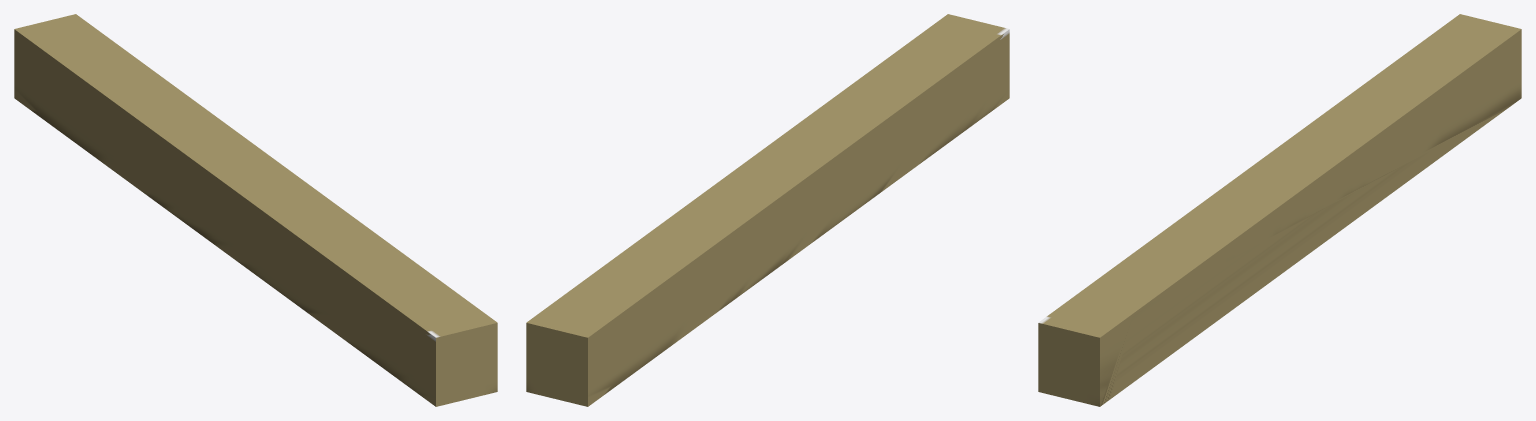
The model's file is crate fragments4.fbx.
3 views of the same model, side by side, from view 1: azimuth 30°, elevation 25°; view 2: azimuth 150°, elevation 25°; view 3: azimuth 330°, elevation 25° (orthographic).
Visible parts, largest first — view 1: CrateFragment 4; view 2: CrateFragment 4; view 3: CrateFragment 4.
Boxes of the visible parts, bbox=[...] form: CrateFragment 4: bbox=[14, 14, 497, 406]; CrateFragment 4: bbox=[526, 14, 1009, 406]; CrateFragment 4: bbox=[1038, 14, 1521, 406].
Bounding box in the file's own units: 31.48 × 33.67 × 372.
